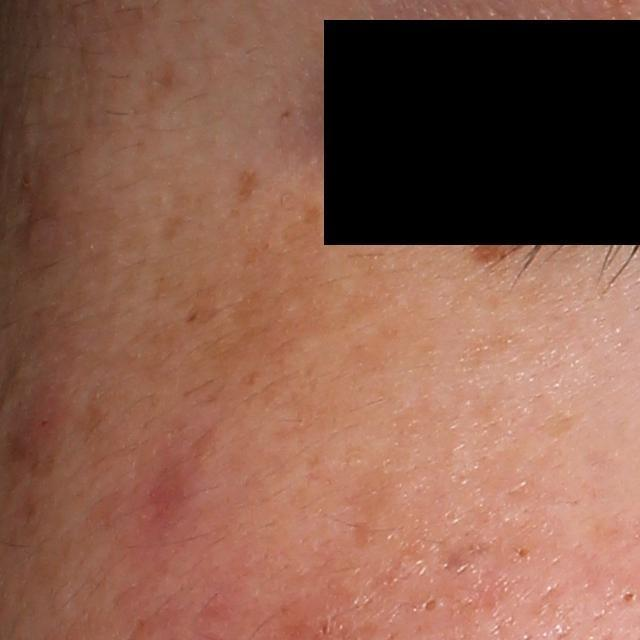comedo: (419, 595, 441, 617), (618, 589, 639, 607), (514, 544, 532, 563)
melasma: (459, 225, 546, 269), (155, 209, 194, 242), (236, 164, 258, 204), (300, 206, 318, 228)
